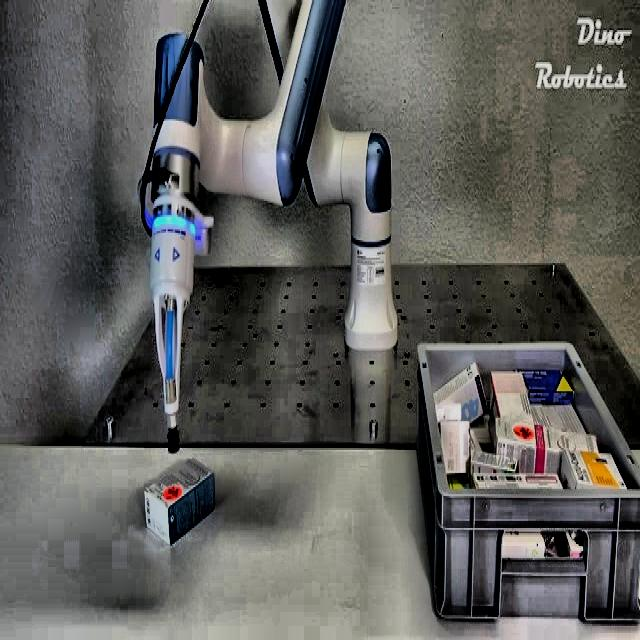robot: (137, 0, 398, 452)
